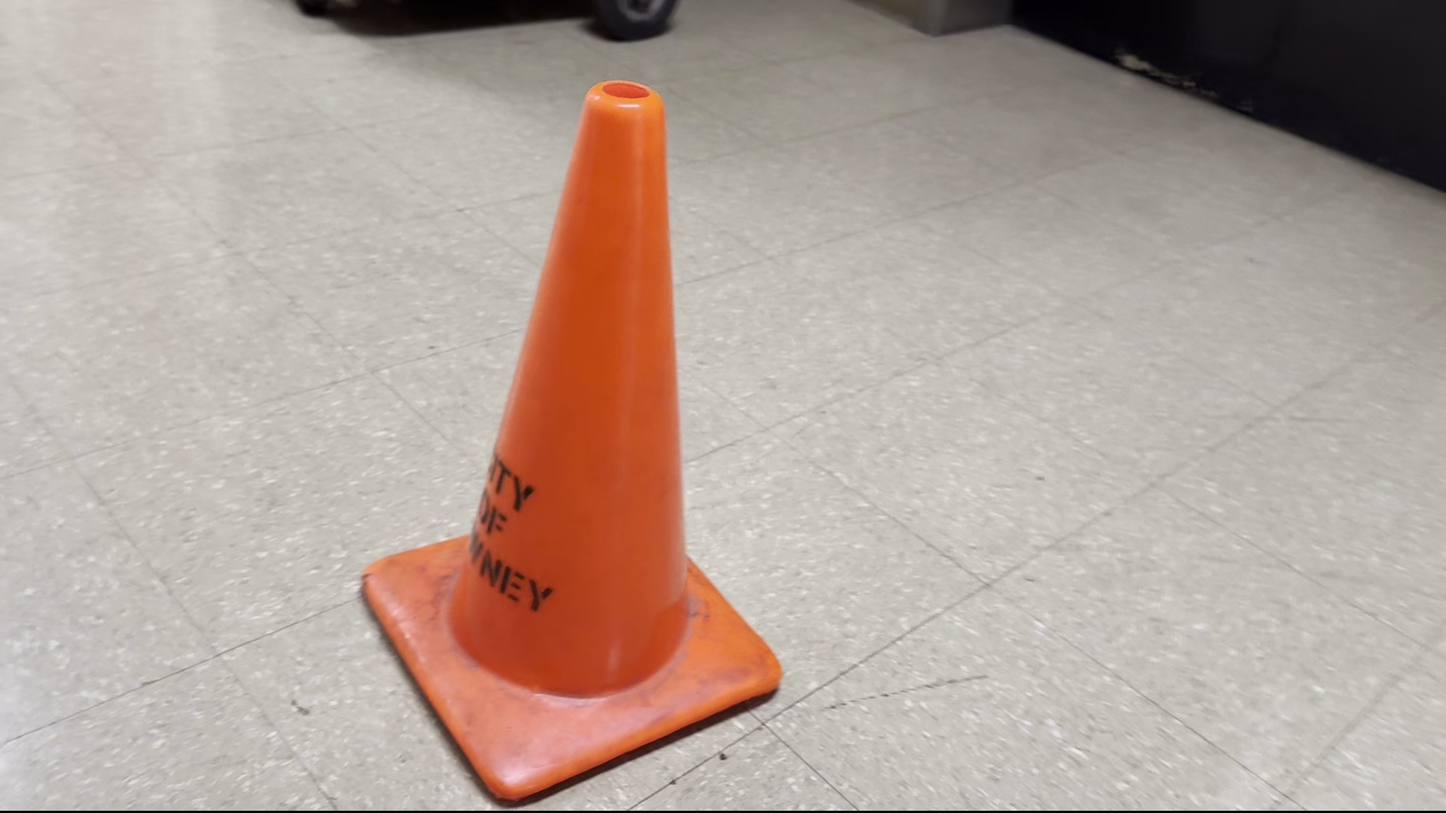traffic_cone: (360, 78, 783, 804)
